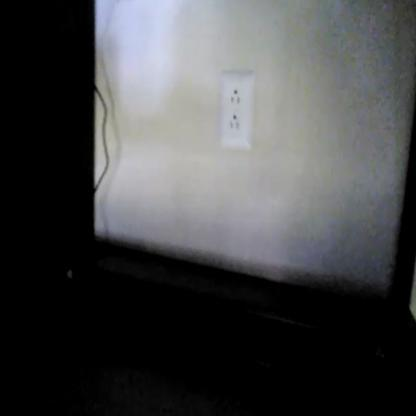OUTLET: (220, 72, 254, 150)
